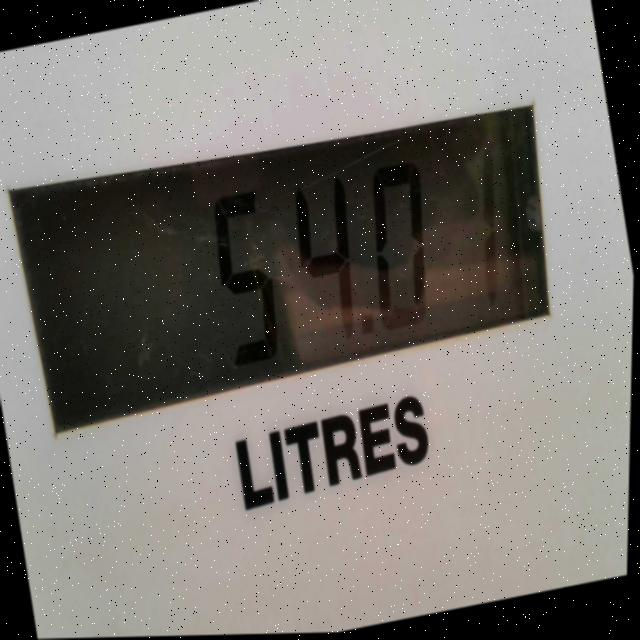.: (356, 314, 380, 352)
0: (349, 148, 446, 342), (441, 142, 522, 320)
4: (277, 168, 377, 357)
5: (180, 166, 303, 373)
